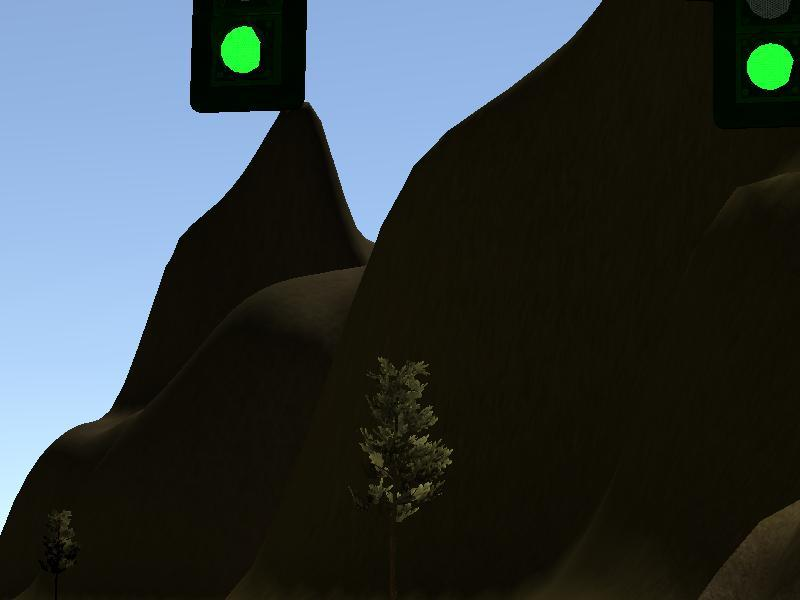Green: (190, 1, 307, 111), (713, 1, 799, 127)
